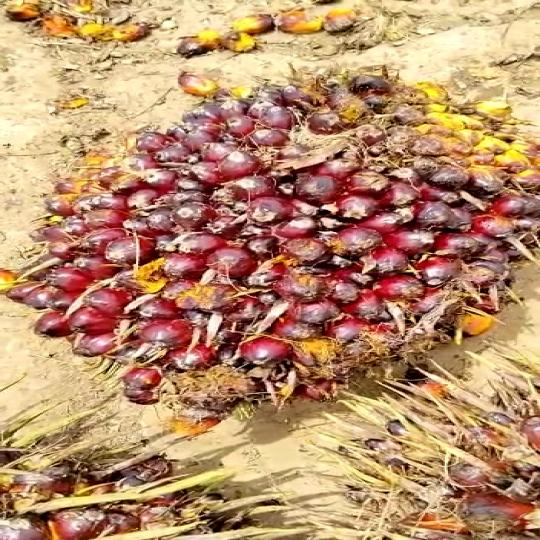kurang masak: (20, 72, 540, 396)
